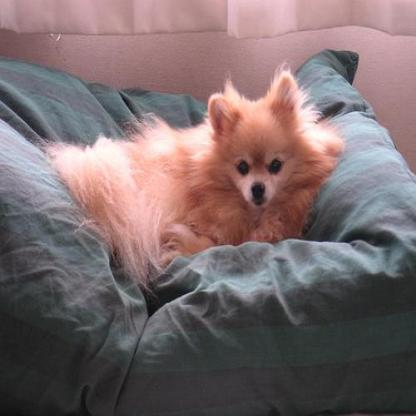Pomeranian: (38, 62, 350, 292)
